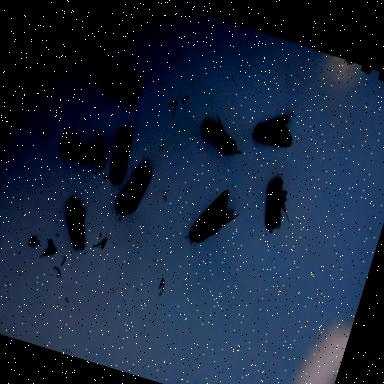pbw: (253, 172, 306, 242), (110, 152, 158, 226), (98, 121, 144, 195), (194, 108, 254, 163), (90, 60, 150, 114), (49, 192, 100, 254), (250, 100, 304, 154), (54, 126, 113, 173)
